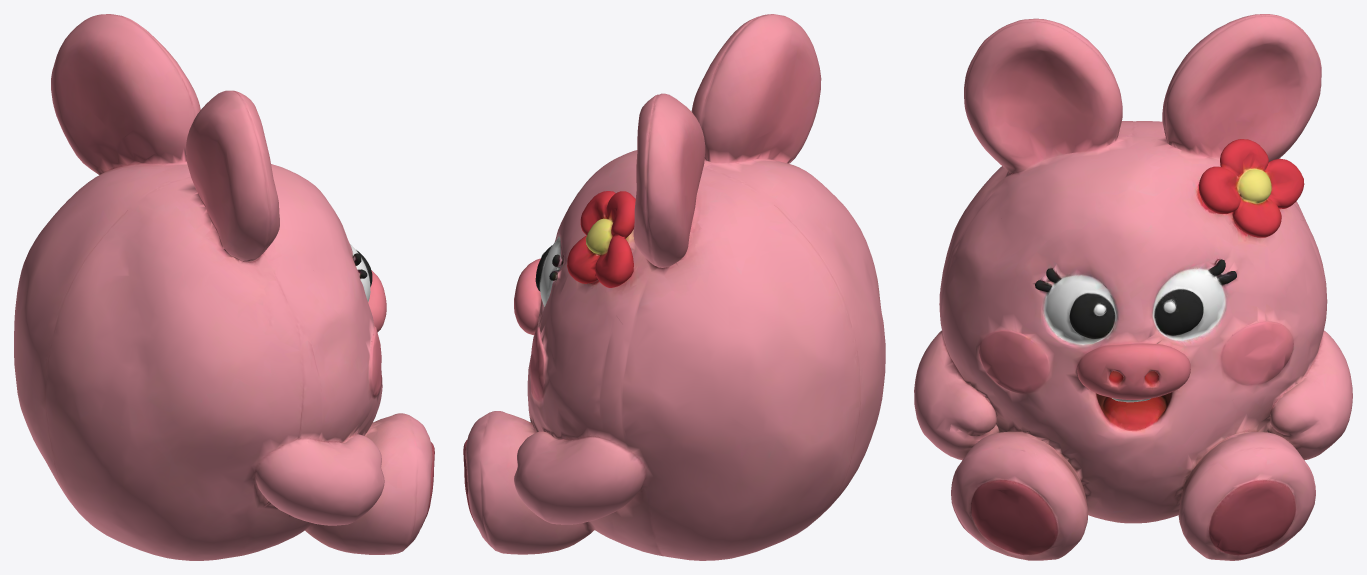
The model's file is pig-plush.glb.
The picture shows the model from 3 angles, left to right: view 1: azimuth 30°, elevation 25°; view 2: azimuth 150°, elevation 25°; view 3: azimuth 270°, elevation 25°; orthographic projection. The views are drawn at different scales.
Parts seen in each view (by area): view 1: tripo_node_08ddcd64-da6d-46cd-ab77-a7bff8215983; view 2: tripo_node_08ddcd64-da6d-46cd-ab77-a7bff8215983; view 3: tripo_node_08ddcd64-da6d-46cd-ab77-a7bff8215983.
Boxes of the visible parts, left/top/right/bottom form: tripo_node_08ddcd64-da6d-46cd-ab77-a7bff8215983: left=14, top=14, right=434, bottom=560; tripo_node_08ddcd64-da6d-46cd-ab77-a7bff8215983: left=463, top=14, right=885, bottom=560; tripo_node_08ddcd64-da6d-46cd-ab77-a7bff8215983: left=914, top=14, right=1352, bottom=560.
Size of the model in its own units: 0.7386 by 1 by 0.8499.
1 material, 1 textured.
